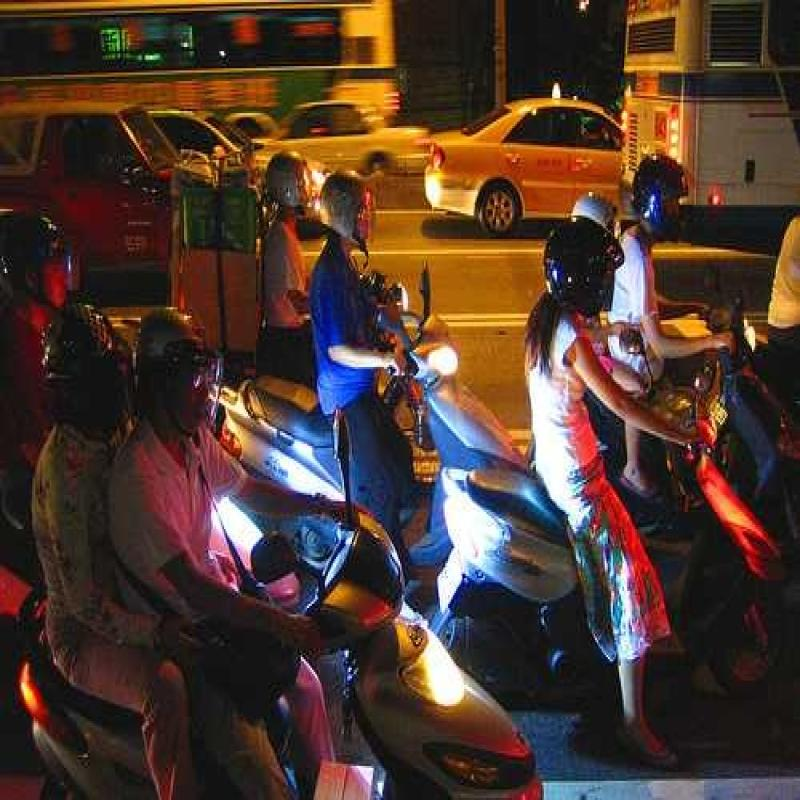bike: (281, 503, 524, 800), (410, 322, 601, 632), (642, 377, 798, 668)
